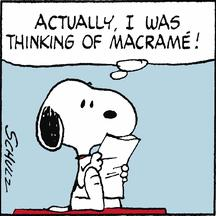snoopy: (35, 78, 139, 212)
